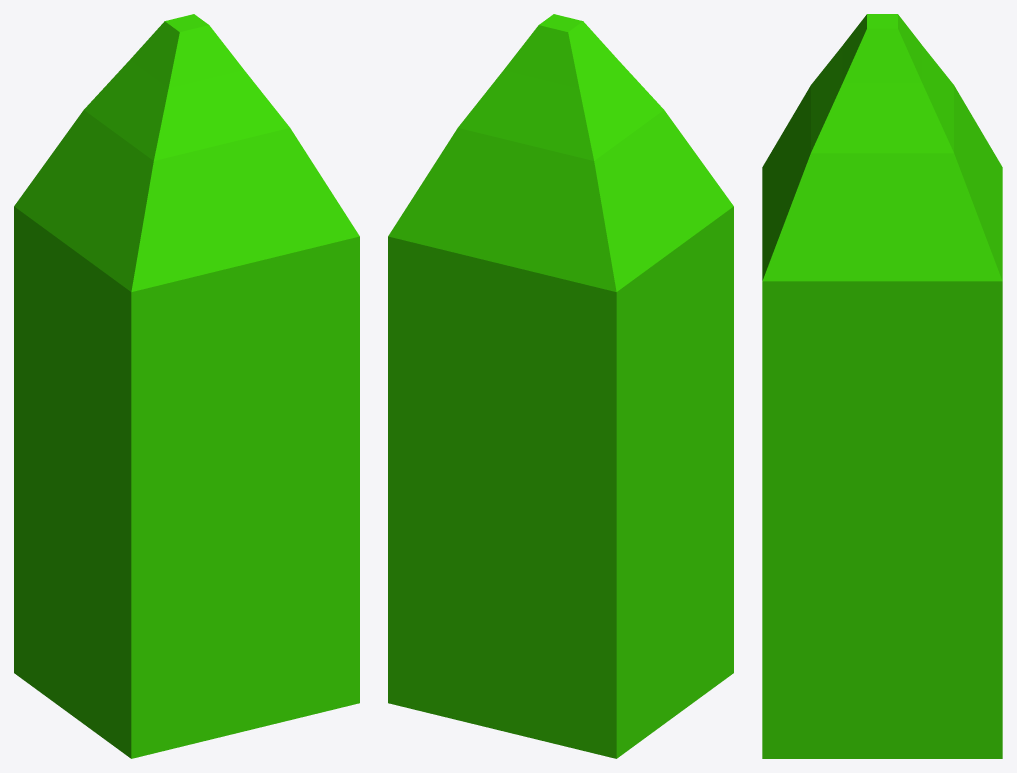
Rendered from bullet.gltf.
3 views of the same model, side by side, from view 1: azimuth 30°, elevation 25°; view 2: azimuth 150°, elevation 25°; view 3: azimuth 270°, elevation 25° (orthographic). The views are drawn at different scales.
Parts seen in each view (by area): view 1: Cube; view 2: Cube; view 3: Cube.
Boxes of the visible parts, left/top/right/bottom form: Cube: left=14, top=14, right=359, bottom=758; Cube: left=388, top=14, right=733, bottom=758; Cube: left=762, top=14, right=1002, bottom=758.
Bounding box in the file's own units: 9.45 × 26.28 × 8.4.
